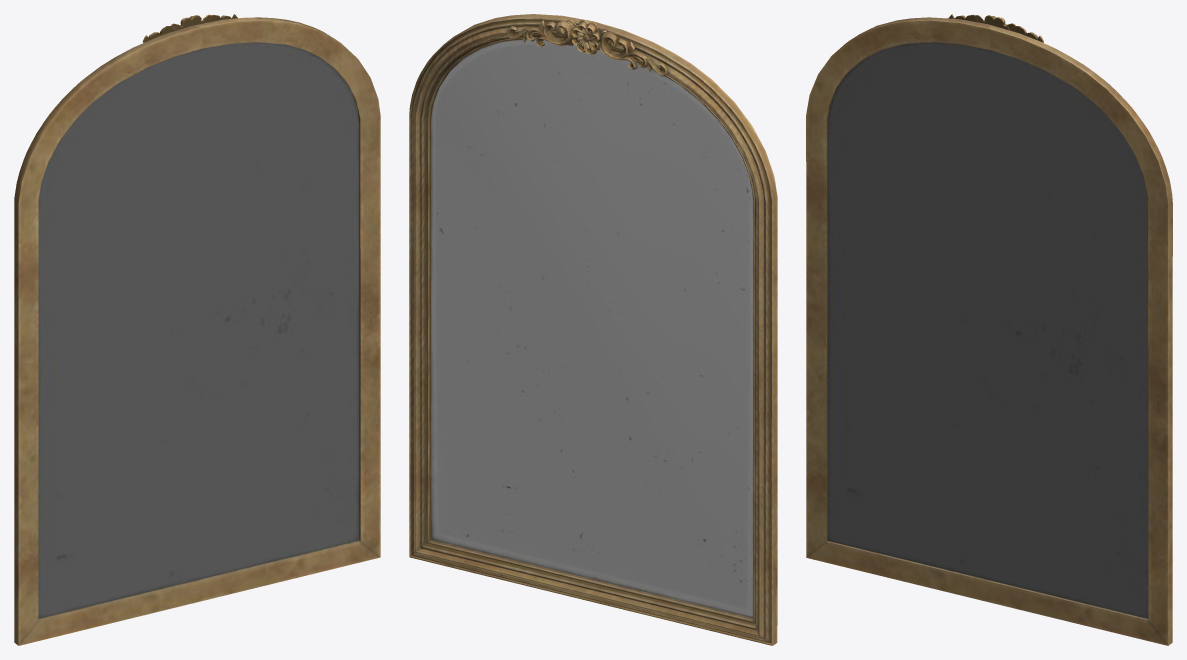
Rendered from mirror-ornate-wall.lod1.glb.
3 views of the same model, side by side, from view 1: azimuth 30°, elevation 25°; view 2: azimuth 150°, elevation 25°; view 3: azimuth 330°, elevation 25° (orthographic).
Visible parts, largest first — view 1: mirror-ornate-wall; view 2: mirror-ornate-wall; view 3: mirror-ornate-wall.
Part boxes in pixels (left/top/right/bottom): mirror-ornate-wall: left=14, top=14, right=380, bottom=645; mirror-ornate-wall: left=409, top=14, right=777, bottom=645; mirror-ornate-wall: left=806, top=14, right=1172, bottom=645.
Bounding box in the file's own units: 0.4863 × 0.744 × 0.026.
1 material, 1 textured.
